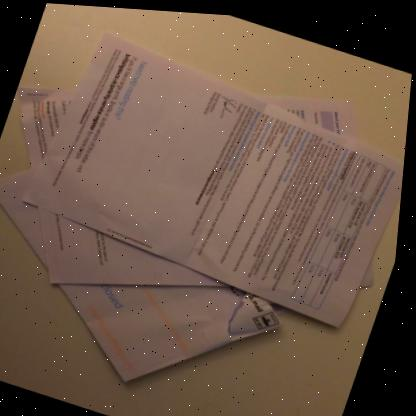Paper: (25, 29, 407, 322), (18, 87, 377, 281), (0, 166, 289, 378)
